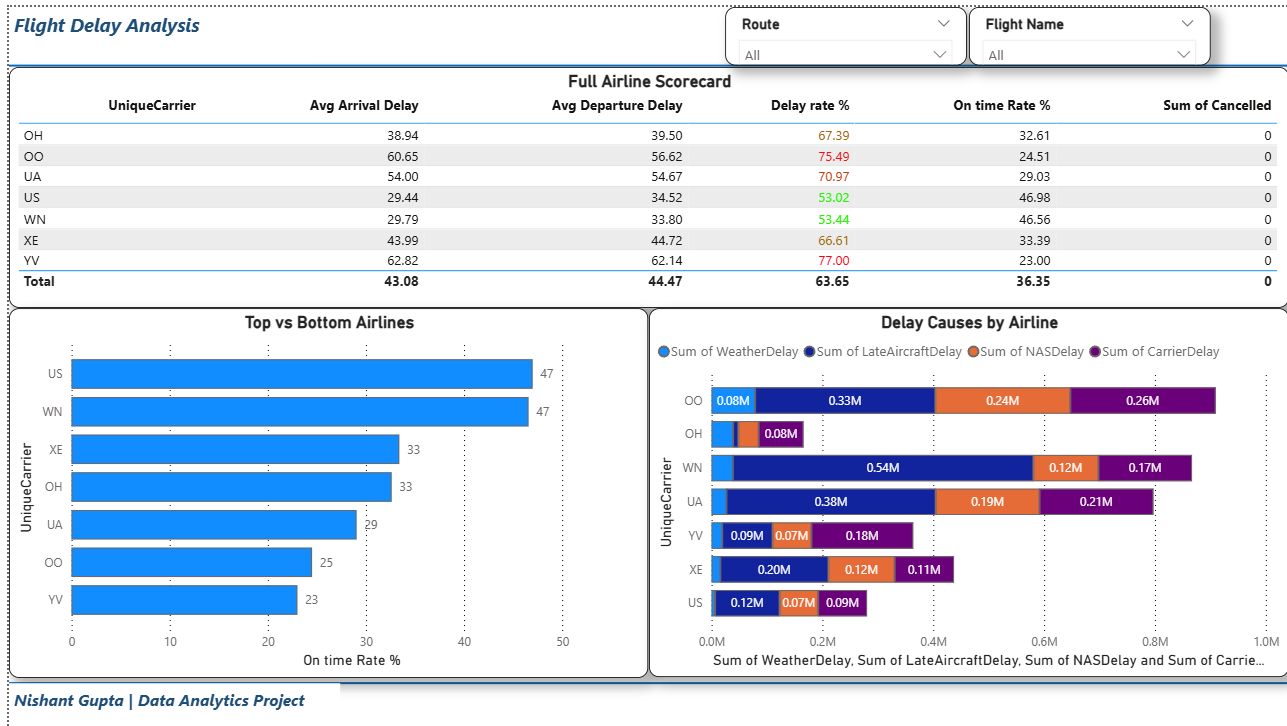

The dashboard page shown, as its layout file describes it:
{"tool":"powerbi","page":{"name":"Airline Performance","canvas":[1280,720],"ordinal":1},"visuals":[{"type":"shape","box":[0,52.6,1280,12.2],"z":0},{"type":"shape","box":[0,670.1,1280.3,12.2],"z":1000},{"type":"tableEx","title":"Full Airline Scorecard","fields":{"Values":["airline_clean.UniqueCarrier","KPI.Avg Arrival Delay","KPI.Avg Departure Delay","KPI.Delay rate %","KPI.On time Rate %","Sum(airline_clean.Cancelled)"]},"box":[0,59.9,1280,240.9],"z":2000},{"type":"barChart","title":"Top vs Bottom Airlines","fields":{"Category":["airline_clean.UniqueCarrier"],"Y":["KPI.On time Rate %"]},"box":[0,300.8,639.5,369.3],"z":3000},{"type":"barChart","title":"Delay Causes by Airline","fields":{"Category":["airline_clean.UniqueCarrier"],"Y":["Sum(airline_clean.WeatherDelay)","Sum(airline_clean.LateAircraftDelay)","Sum(airline_clean.NASDelay)","Sum(airline_clean.CarrierDelay)"]},"box":[640,301,640,369],"z":4000},{"type":"textbox","box":[0,676.2,331.2,43.8],"z":4001},{"type":"textbox","box":[0,0,300,52.5],"z":4002},{"type":"slicer","fields":{"Values":["airline_clean.Route"]},"box":[716.2,0,241.2,58.8],"z":4003},{"type":"slicer","fields":{"Values":["airline_clean.UniqueCarrier"]},"box":[960,0,241.2,58.8],"z":4004}]}

Visuals, with their boxes in screenshot pixels (x1, y1, x2, y2), scaled from the page's 1280x720 canvas onto the 1287x726 screenshot:
shape: box=[0, 53, 1286, 65]
shape: box=[0, 676, 1286, 688]
"Full Airline Scorecard" tableEx: box=[0, 60, 1286, 303]
"Top vs Bottom Airlines" barChart: box=[0, 303, 643, 676]
"Delay Causes by Airline" barChart: box=[644, 304, 1286, 676]
textbox: box=[0, 682, 333, 725]
textbox: box=[0, 0, 302, 53]
slicer - airline_clean.Route: box=[720, 0, 963, 59]
slicer - airline_clean.UniqueCarrier: box=[965, 0, 1208, 59]
